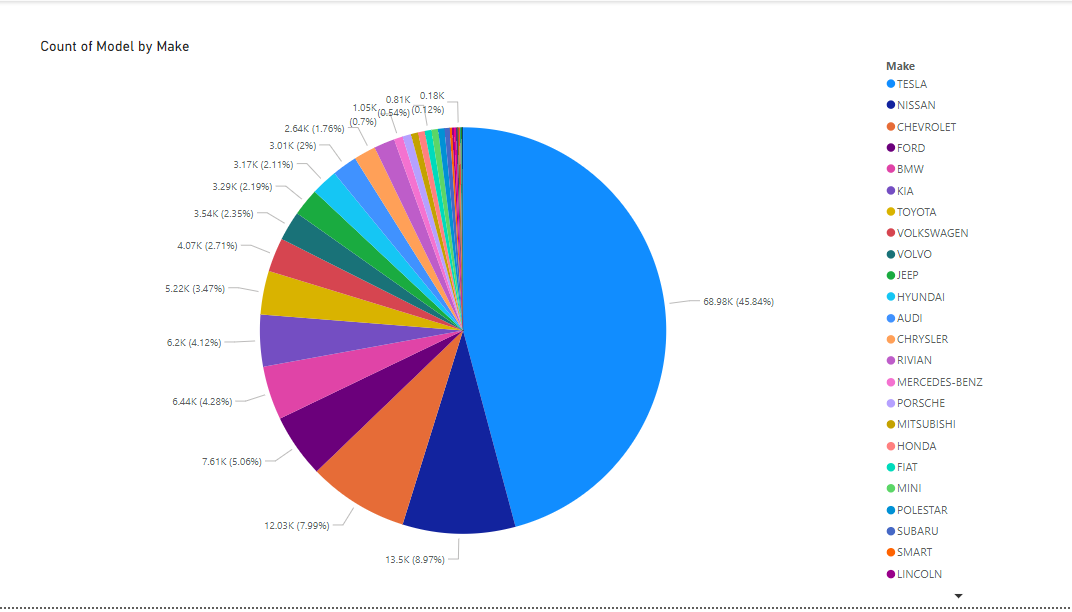

The page's visual inventory and layout, read from the dashboard file:
{"tool":"powerbi","page":{"name":"Page 2","canvas":[1280,720],"ordinal":1},"visuals":[{"type":"pieChart","fields":{"Category":["Electric_Vehicle_Population_Data.Make"],"Y":["CountNonNull(Electric_Vehicle_Population_Data.Model)"]},"box":[44,44,1186.1,676.2],"z":0}]}

Visuals, with their boxes in screenshot pixels (x1, y1, x2, y2), scaled from the page's 1280x720 canvas onto the 1072x612 screenshot:
pieChart - Electric_Vehicle_Population_Data.Make x CountNonNull(Electric_Vehicle_Population_Data.Model): l=37, t=37, r=1030, b=611
